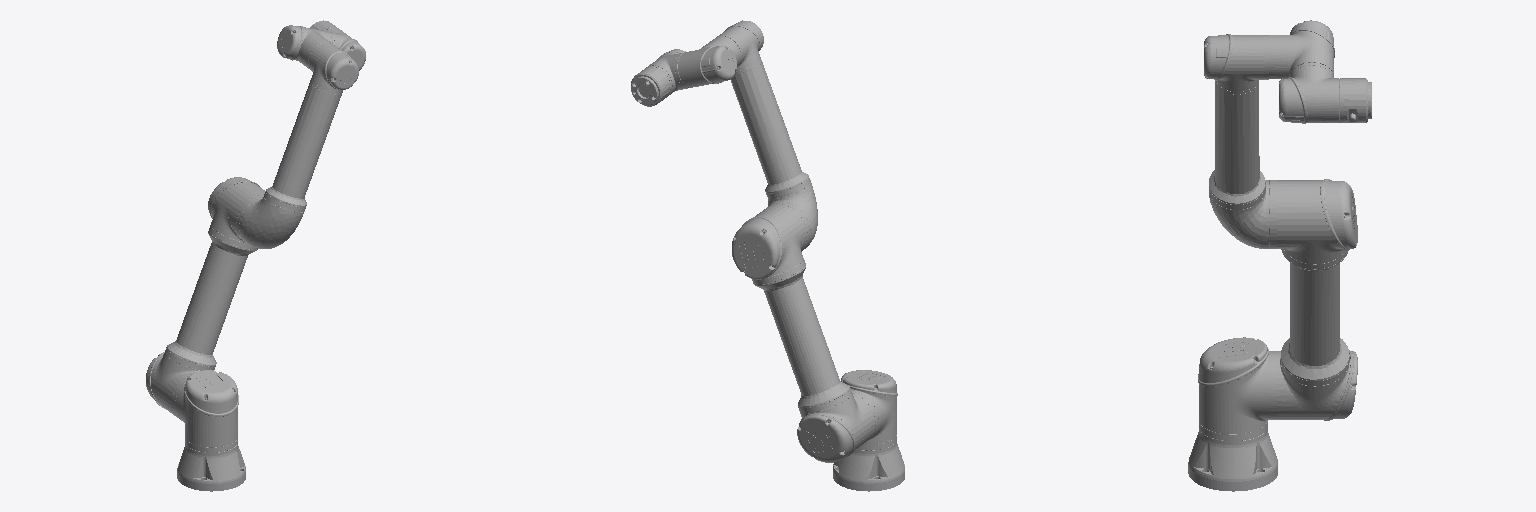
robot.urdf — ur5e_robot:
<?xml version="1.0" ?>
<robot name="ur5e_robot">

    <!-- 创建中间链接用于连接各关节 -->
    <link name="base_link_for_offset"/>
    <link name="pos_x_link"/>
    <link name="pos_y_link"/>
    <link name="pos_z_link"/>
    <link name="rot_x_link"/>
    <link name="rot_y_link"/>
    <!-- X方向平移关节 -->
    <joint name="pos_x_joint" type="prismatic">
      <parent link="base_link_for_offset"/>
      <child link="pos_x_link"/>
      <origin xyz="0 0 0" rpy="0 0 0"/>
      <axis xyz="1 0 0"/>
      <limit lower="-10" upper="10" effort="100" velocity="1"/>
    </joint>
    <!-- Y方向平移关节 -->
    <joint name="pos_y_joint" type="prismatic">
      <parent link="pos_x_link"/>
      <child link="pos_y_link"/>
      <origin xyz="0 0 0" rpy="0 0 0"/>
      <axis xyz="0 1 0"/>
      <limit lower="-10" upper="10" effort="100" velocity="1"/>
    </joint>
    <!-- Z方向平移关节 -->
    <joint name="pos_z_joint" type="prismatic">
      <parent link="pos_y_link"/>
      <child link="pos_z_link"/>
      <origin xyz="0 0 0" rpy="0 0 0"/>
      <axis xyz="0 0 1"/>
      <limit lower="-10" upper="10" effort="100" velocity="1"/>
    </joint>
    <!-- X轴旋转关节 -->
    <joint name="rot_x_joint" type="revolute">
      <parent link="pos_z_link"/>
      <child link="rot_x_link"/>
      <origin xyz="0 0 0" rpy="0 0 0"/>
      <axis xyz="1 0 0"/>
      <limit lower="-6.28" upper="6.28" effort="100" velocity="1"/>
    </joint>
    <!-- Y轴旋转关节 -->
    <joint name="rot_y_joint" type="revolute">
      <parent link="rot_x_link"/>
      <child link="rot_y_link"/>
      <origin xyz="0 0 0" rpy="0 0 0"/>
      <axis xyz="0 1 0"/>
      <limit lower="-6.28" upper="6.28" effort="100" velocity="1"/>
    </joint>
    <!-- Z轴旋转关节 -->
    <joint name="rot_z_joint" type="revolute">
      <parent link="rot_y_link"/>
      <child link="base_link"/>
      <origin xyz="0 0 0" rpy="0 0 0"/>
      <axis xyz="0 0 1"/>
      <limit lower="-6.28" upper="6.28" effort="100" velocity="1"/>
    </joint>


  <link name="base_link"/>
  <link name="base_offset_link"/>
  <link name="base_link_inertia">
    <visual>
      <origin rpy="0 0 3.141592653589793" xyz="0 0 0"/>
      <geometry>
        <mesh filename="meshes/visual/base.dae"/>
      </geometry>
      <material name="LightGrey">
        <color rgba="0.7 0.7 0.7 1.0"/>
      </material>
    </visual>
    <collision>
      <origin rpy="0 0 3.141592653589793" xyz="0 0 0"/>
      <geometry>
        <mesh filename="meshes/collision/base.stl"/>
      </geometry>
    </collision>
    <inertial>
      <mass value="4.0"/>
      <origin rpy="0 0 0" xyz="0 0 0"/>
      <inertia ixx="0.00443333156" ixy="0.0" ixz="0.0" iyy="0.00443333156" iyz="0.0" izz="0.0072"/>
    </inertial>
  </link>
  <link name="shoulder_link">
    <visual>
      <origin rpy="0 0 3.141592653589793" xyz="0 0 0"/>
      <geometry>
        <mesh filename="meshes/visual/shoulder.dae"/>
      </geometry>
      <material name="LightGrey">
        <color rgba="0.7 0.7 0.7 1.0"/>
      </material>
    </visual>
    <collision>
      <origin rpy="0 0 3.141592653589793" xyz="0 0 0"/>
      <geometry>
        <mesh filename="meshes/collision/shoulder.stl"/>
      </geometry>
    </collision>
    <inertial>
      <mass value="3.7"/>
      <origin rpy="0 0 0" xyz="0 0 0"/>
      <inertia ixx="0.010267495893" ixy="0.0" ixz="0.0" iyy="0.010267495893" iyz="0.0" izz="0.00666"/>
    </inertial>
  </link>
  <link name="upper_arm_link">
    <visual>
      <origin rpy="1.5707963267948966 0 -1.5707963267948966" xyz="0 0 0.138"/>
      <geometry>
        <mesh filename="meshes/visual/upperarm.dae"/>
      </geometry>
      <material name="LightGrey">
        <color rgba="0.7 0.7 0.7 1.0"/>
      </material>
    </visual>
    <collision>
      <origin rpy="1.5707963267948966 0 -1.5707963267948966" xyz="0 0 0.138"/>
      <geometry>
        <mesh filename="meshes/collision/upperarm.stl"/>
      </geometry>
    </collision>
    <inertial>
      <mass value="8.393"/>
      <origin rpy="0 1.5707963267948966 0" xyz="-0.2125 0.0 0.138"/>
      <inertia ixx="0.1338857818623325" ixy="0.0" ixz="0.0" iyy="0.1338857818623325" iyz="0.0" izz="0.0151074"/>
    </inertial>
  </link>
  <link name="forearm_link">
    <visual>
      <origin rpy="1.5707963267948966 0 -1.5707963267948966" xyz="0 0 0.007"/>
      <geometry>
        <mesh filename="meshes/visual/forearm.dae"/>
      </geometry>
      <material name="LightGrey">
        <color rgba="0.7 0.7 0.7 1.0"/>
      </material>
    </visual>
    <collision>
      <origin rpy="1.5707963267948966 0 -1.5707963267948966" xyz="0 0 0.007"/>
      <geometry>
        <mesh filename="meshes/collision/forearm.stl"/>
      </geometry>
    </collision>
    <inertial>
      <mass value="2.275"/>
      <origin rpy="0 1.5707963267948966 0" xyz="-0.1961 0.0 0.007"/>
      <inertia ixx="0.031209355099586295" ixy="0.0" ixz="0.0" iyy="0.031209355099586295" iyz="0.0" izz="0.004095"/>
    </inertial>
  </link>
  <link name="wrist_1_link">
    <visual>
      <!-- TODO: Move this to a parameter -->
      <origin rpy="1.5707963267948966 0 0" xyz="0 0 -0.127"/>
      <geometry>
        <mesh filename="meshes/visual/wrist1.dae"/>
      </geometry>
      <material name="LightGrey">
        <color rgba="0.7 0.7 0.7 1.0"/>
      </material>
    </visual>
    <collision>
      <origin rpy="1.5707963267948966 0 0" xyz="0 0 -0.127"/>
      <geometry>
        <mesh filename="meshes/collision/wrist1.stl"/>
      </geometry>
    </collision>
    <inertial>
      <mass value="1.219"/>
      <origin rpy="0 0 0" xyz="0 0 0"/>
      <inertia ixx="0.0025598989760400002" ixy="0.0" ixz="0.0" iyy="0.0025598989760400002" iyz="0.0" izz="0.0021942"/>
    </inertial>
  </link>
  <link name="wrist_2_link">
    <visual>
      <origin rpy="0 0 0" xyz="0 0 -0.0997"/>
      <geometry>
        <mesh filename="meshes/visual/wrist2.dae"/>
      </geometry>
      <material name="LightGrey">
        <color rgba="0.7 0.7 0.7 1.0"/>
      </material>
    </visual>
    <collision>
      <origin rpy="0 0 0" xyz="0 0 -0.0997"/>
      <geometry>
        <mesh filename="meshes/collision/wrist2.stl"/>
      </geometry>
    </collision>
    <inertial>
      <mass value="1.219"/>
      <origin rpy="0 0 0" xyz="0 0 0"/>
      <inertia ixx="0.0025598989760400002" ixy="0.0" ixz="0.0" iyy="0.0025598989760400002" iyz="0.0" izz="0.0021942"/>
    </inertial>
  </link>
  <link name="wrist_3_link">
    <visual>
      <origin rpy="1.5707963267948966 0 0" xyz="0 0 -0.0989"/>
      <geometry>
        <mesh filename="meshes/visual/wrist3.dae"/>
      </geometry>
      <material name="LightGrey">
        <color rgba="0.7 0.7 0.7 1.0"/>
      </material>
    </visual>
    <collision>
      <origin rpy="1.5707963267948966 0 0" xyz="0 0 -0.0989"/>
      <geometry>
        <mesh filename="meshes/collision/wrist3.stl"/>
      </geometry>
    </collision>
    <inertial>
      <mass value="0.1879"/>
      <origin rpy="0 0 0" xyz="0.0 0.0 -0.0229"/>
      <inertia ixx="9.890410052167731e-05" ixy="0.0" ixz="0.0" iyy="9.890410052167731e-05" iyz="0.0" izz="0.0001321171875"/>
    </inertial>
  </link>


  <!-- joints: main serial chain -->
  <joint name="base_offset_joint" type="fixed">
    <parent link="base_link"/>
    <child link="base_offset_link"/>
    <origin rpy="0 0 0" xyz="0 0 0"/>
  </joint>
  <joint name="base_link-base_link_inertia" type="fixed">
    <parent link="base_offset_link"/>
    <child link="base_link_inertia"/>
    <!-- 'base_link' is REP-103 aligned (so X+ forward), while the internal
           frames of the robot/controller have X+ pointing backwards.
           Use the joint between 'base_link' and 'base_link_inertia' (a dummy
           link/frame) to introduce the necessary rotation over Z (of pi rad).
      -->
    <origin rpy="0 0 1.5707963267948966" xyz="0 0 0"/>
  </joint>
  <joint name="shoulder_pan_joint" type="revolute">
    <parent link="base_link_inertia"/>
    <child link="shoulder_link"/>
    <origin rpy="0 0 0" xyz="0 0 0.1625"/>
    <axis xyz="0 0 1"/>
    <limit effort="150.0" lower="0.7853981633974483" upper="2.356194490192345" velocity="3.141592653589793"/>
    <dynamics damping="0" friction="0"/>
  </joint>
  <joint name="shoulder_lift_joint" type="revolute">
    <parent link="shoulder_link"/>
    <child link="upper_arm_link"/>
    <origin rpy="1.570796327 0 0" xyz="0 0 0"/>
    <axis xyz="0 0 1"/>
    <limit effort="150.0" lower="-1.7671458676442586" upper="-0.5890486225480862" velocity="3.141592653589793"/>
    <dynamics damping="0" friction="0"/>
  </joint>
  <joint name="elbow_joint" type="revolute">
    <parent link="upper_arm_link"/>
    <child link="forearm_link"/>
    <origin rpy="0 0 0" xyz="-0.425 0 0"/>
    <axis xyz="0 0 1"/>
    <limit effort="150.0" lower="-0.19634954084936207" upper="2.945243112740431" velocity="3.141592653589793"/>
    <dynamics damping="0" friction="0"/>
  </joint>
  <joint name="wrist_1_joint" type="revolute">
    <parent link="forearm_link"/>
    <child link="wrist_1_link"/>
    <origin rpy="0 0 0" xyz="-0.3922 0 0.1333"/>
    <axis xyz="0 0 1"/>
    <limit effort="28.0" lower="-1.9634954084936207" upper="1.1780972450961724" velocity="3.141592653589793"/>
    <dynamics damping="0" friction="0"/>
  </joint>
  <joint name="wrist_2_joint" type="revolute">
    <parent link="wrist_1_link"/>
    <child link="wrist_2_link"/>
    <origin rpy="1.570796327 0 0" xyz="0 -0.0997 -2.044881182297852e-11"/>
    <axis xyz="0 0 1"/>
    <limit effort="28.0" lower="0.0" upper="3.141592653589793" velocity="3.141592653589793"/>
    <dynamics damping="0" friction="0"/>
  </joint>
  <joint name="wrist_3_joint" type="revolute">
    <parent link="wrist_2_link"/>
    <child link="wrist_3_link"/>
    <origin rpy="1.570796326589793 3.141592653589793 3.141592653589793" xyz="0 0.0996 -2.042830148012698e-11"/>
    <axis xyz="0 0 1"/>
    <limit effort="28.0" lower="-3.141592653589793" upper="3.141592653589793" velocity="3.141592653589793"/>
    <dynamics damping="0" friction="0"/>
  </joint>


  <link name="base"/>

  <joint name="arm_hand_joint" type="fixed">
    <origin xyz="0.03 0.01 0.123" rpy="0. -1.57079 -1.57079"/>
    <parent link="wrist_3_link"/>
    <child link="base"/>
  </joint>

</robot>

--- Render facts (derived) ---
Views: 3 orthographic renders of the robot side by side, from view 1: azimuth 30°, elevation 25°; view 2: azimuth 150°, elevation 25°; view 3: azimuth 270°, elevation 25°.
Model ur5e_robot with 16 links and 15 joints (9 revolute, 3 prismatic, 3 fixed), rooted at base_link_for_offset, posed all joints at 0 but 2 set to mid-range because 0 is outside their limits (shoulder_pan_joint = 1.57, shoulder_lift_joint = -1.18).
Visible links, largest first — view 1: upper_arm_link, forearm_link, shoulder_link, base_link_inertia, wrist_1_link, wrist_2_link; view 2: upper_arm_link, forearm_link, base_link_inertia, shoulder_link, wrist_1_link, wrist_3_link, wrist_2_link; view 3: upper_arm_link, forearm_link, shoulder_link, base_link_inertia, wrist_2_link, wrist_1_link, wrist_3_link.
Link boxes in pixels (x1=…): upper_arm_link: x1=146, y1=177, x2=264, y2=417; forearm_link: x1=239, y1=41, x2=358, y2=248; shoulder_link: x1=172, y1=370, x2=238, y2=446; base_link_inertia: x1=177, y1=437, x2=245, y2=491; wrist_1_link: x1=277, y1=25, x2=334, y2=68; wrist_2_link: x1=323, y1=27, x2=365, y2=70; upper_arm_link: x1=732, y1=202, x2=874, y2=462; forearm_link: x1=716, y1=20, x2=817, y2=248; base_link_inertia: x1=833, y1=435, x2=904, y2=491; shoulder_link: x1=836, y1=370, x2=897, y2=444; wrist_1_link: x1=675, y1=37, x2=739, y2=87; wrist_3_link: x1=631, y1=67, x2=670, y2=106; wrist_2_link: x1=646, y1=49, x2=687, y2=96; upper_arm_link: x1=1269, y1=179, x2=1357, y2=420; forearm_link: x1=1204, y1=34, x2=1268, y2=248; shoulder_link: x1=1198, y1=337, x2=1276, y2=433; base_link_inertia: x1=1188, y1=421, x2=1277, y2=491; wrist_2_link: x1=1279, y1=66, x2=1343, y2=123; wrist_1_link: x1=1269, y1=20, x2=1334, y2=78; wrist_3_link: x1=1344, y1=78, x2=1371, y2=122.
Size in the robot's own frame: 0.5215 by 0.3084 by 0.9695 metres.
Meshes: 7 distinct files referenced, 7 mesh visuals loaded (7 Collada DAE).
